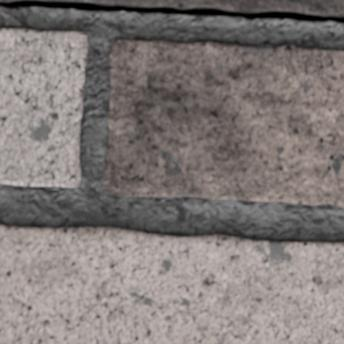brick: (0, 223, 343, 343), (104, 39, 343, 206), (0, 28, 88, 186), (47, 0, 343, 16), (0, 0, 21, 1)
crack: (0, 0, 343, 22)
